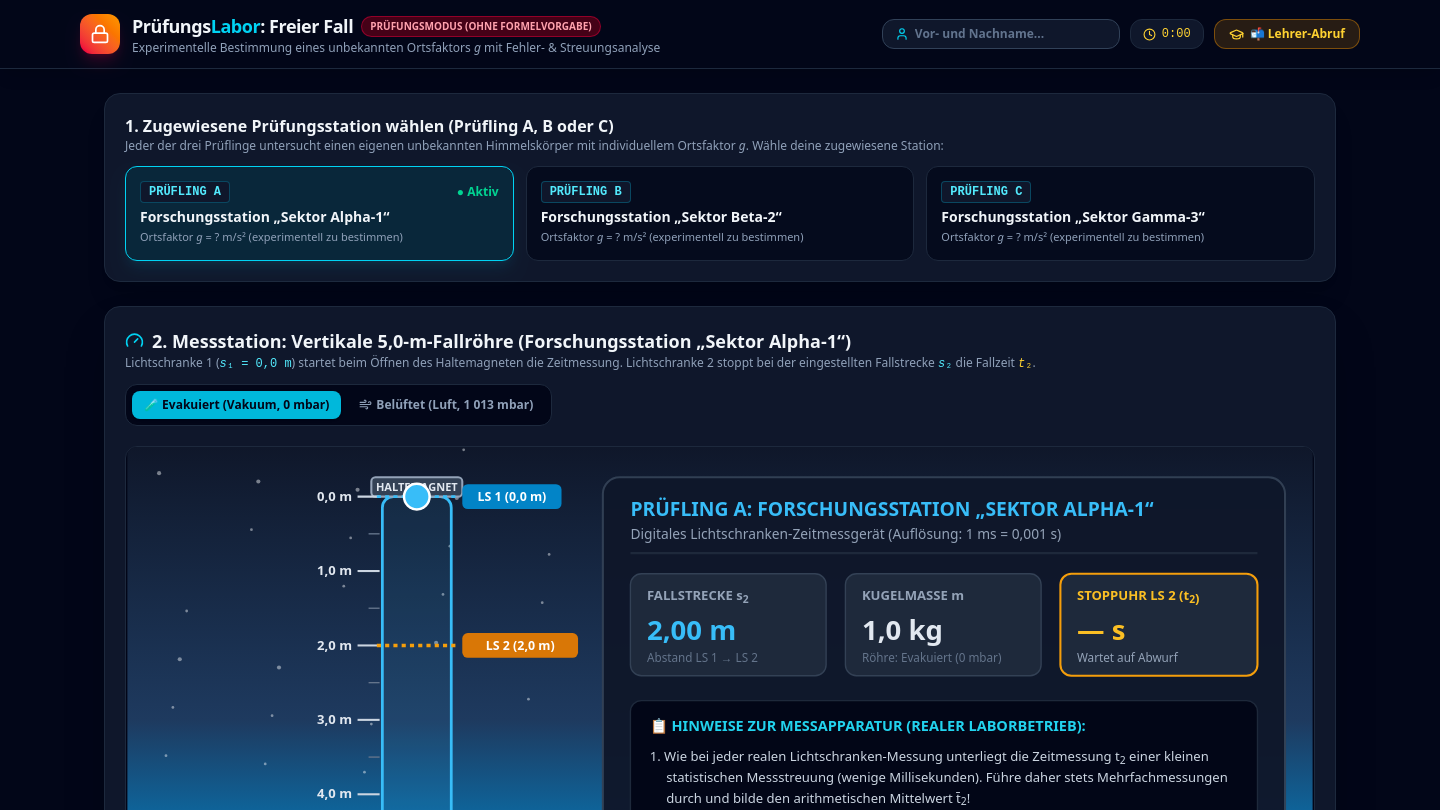
FreierFallPruefungLab Physics & UI › renders spoiler-free UI with 3 student stations and teacher inbox modal
This screenshot has width=1440, height=810.
Expected: the text "Prüfungsmodus (Ohne Formelvorgabe)" is shown, [361, 16, 601, 36]
Expected: the heading "1. Zugewiesene Prüfungsstation wählen (Prüfling A, B oder C)" is shown, [125, 115, 614, 137]
// Switch to Station Beta
Click the text "PRÜFLING B". click: x=586, y=192
box: [541, 181, 631, 203]
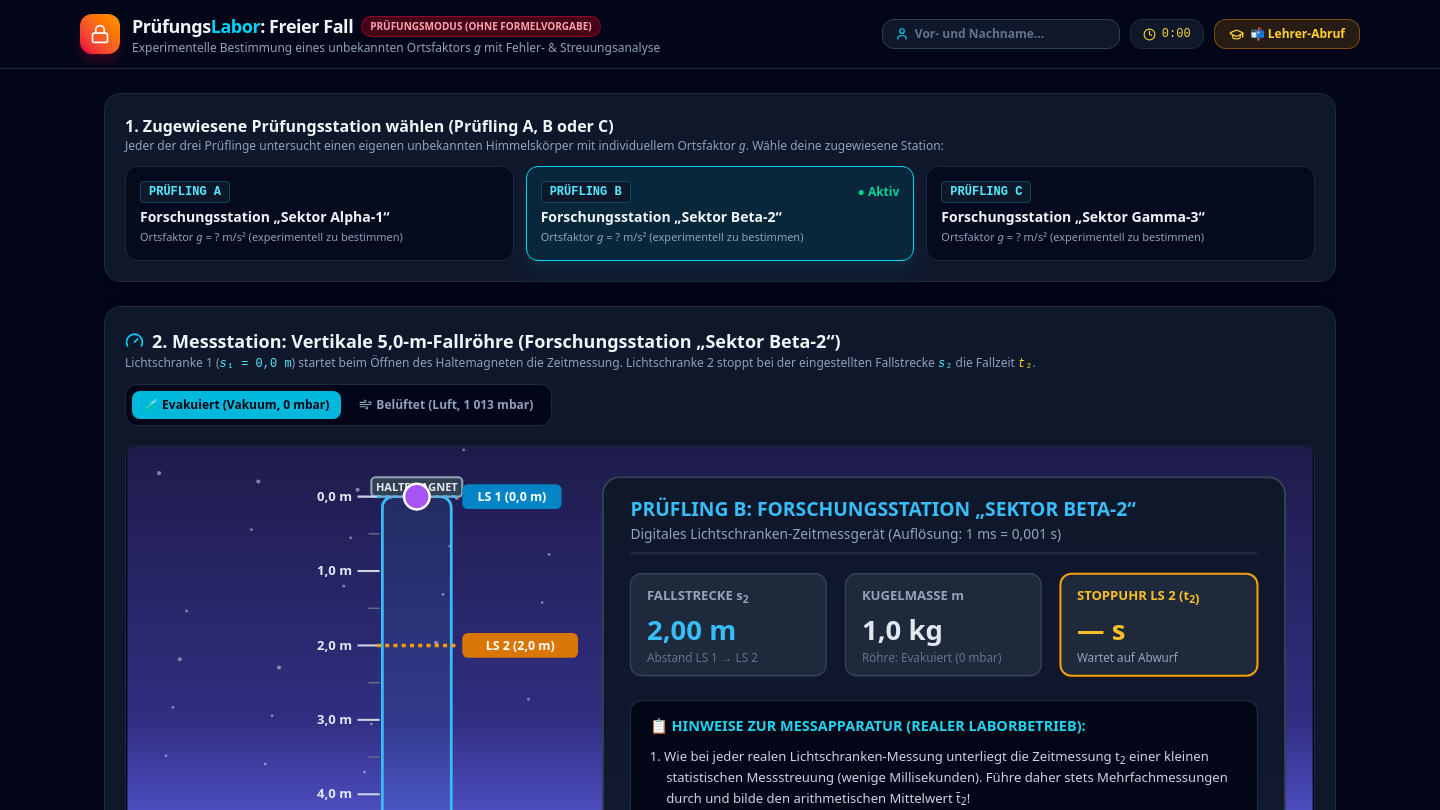
Expected: the text "Forschungsstation „Sektor Beta-2“" is shown, [541, 207, 782, 226]
// Open Teacher Inbox Modal
Click the button "📬 Lehrer-Abruf". click: x=1287, y=34
box: [1214, 19, 1360, 49]
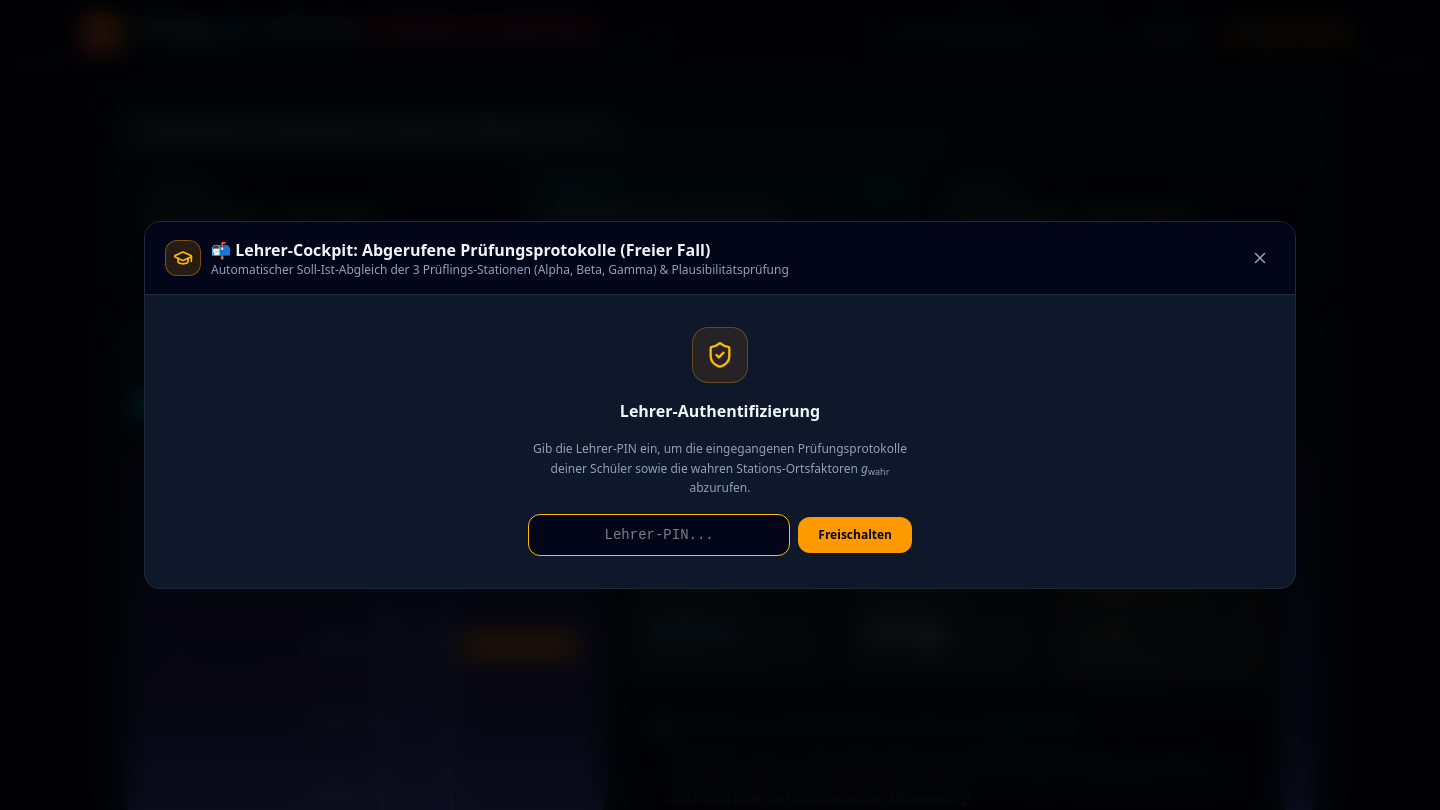
Result: the heading "Lehrer-Authentifizierung" is shown at [620, 400, 820, 422]
